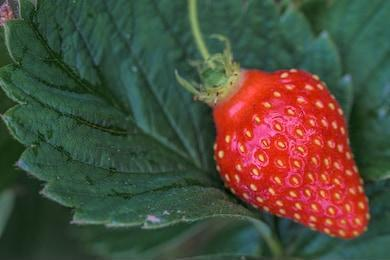Fresa: (197, 60, 380, 243)
